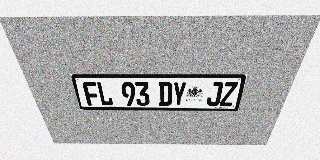3: (135, 82, 150, 106)
9: (120, 82, 136, 106)
D: (159, 82, 172, 106)
F: (82, 82, 101, 106)
J: (206, 82, 224, 106)
L: (96, 82, 114, 106)
Y: (172, 82, 187, 106)
Z: (219, 82, 238, 106)
